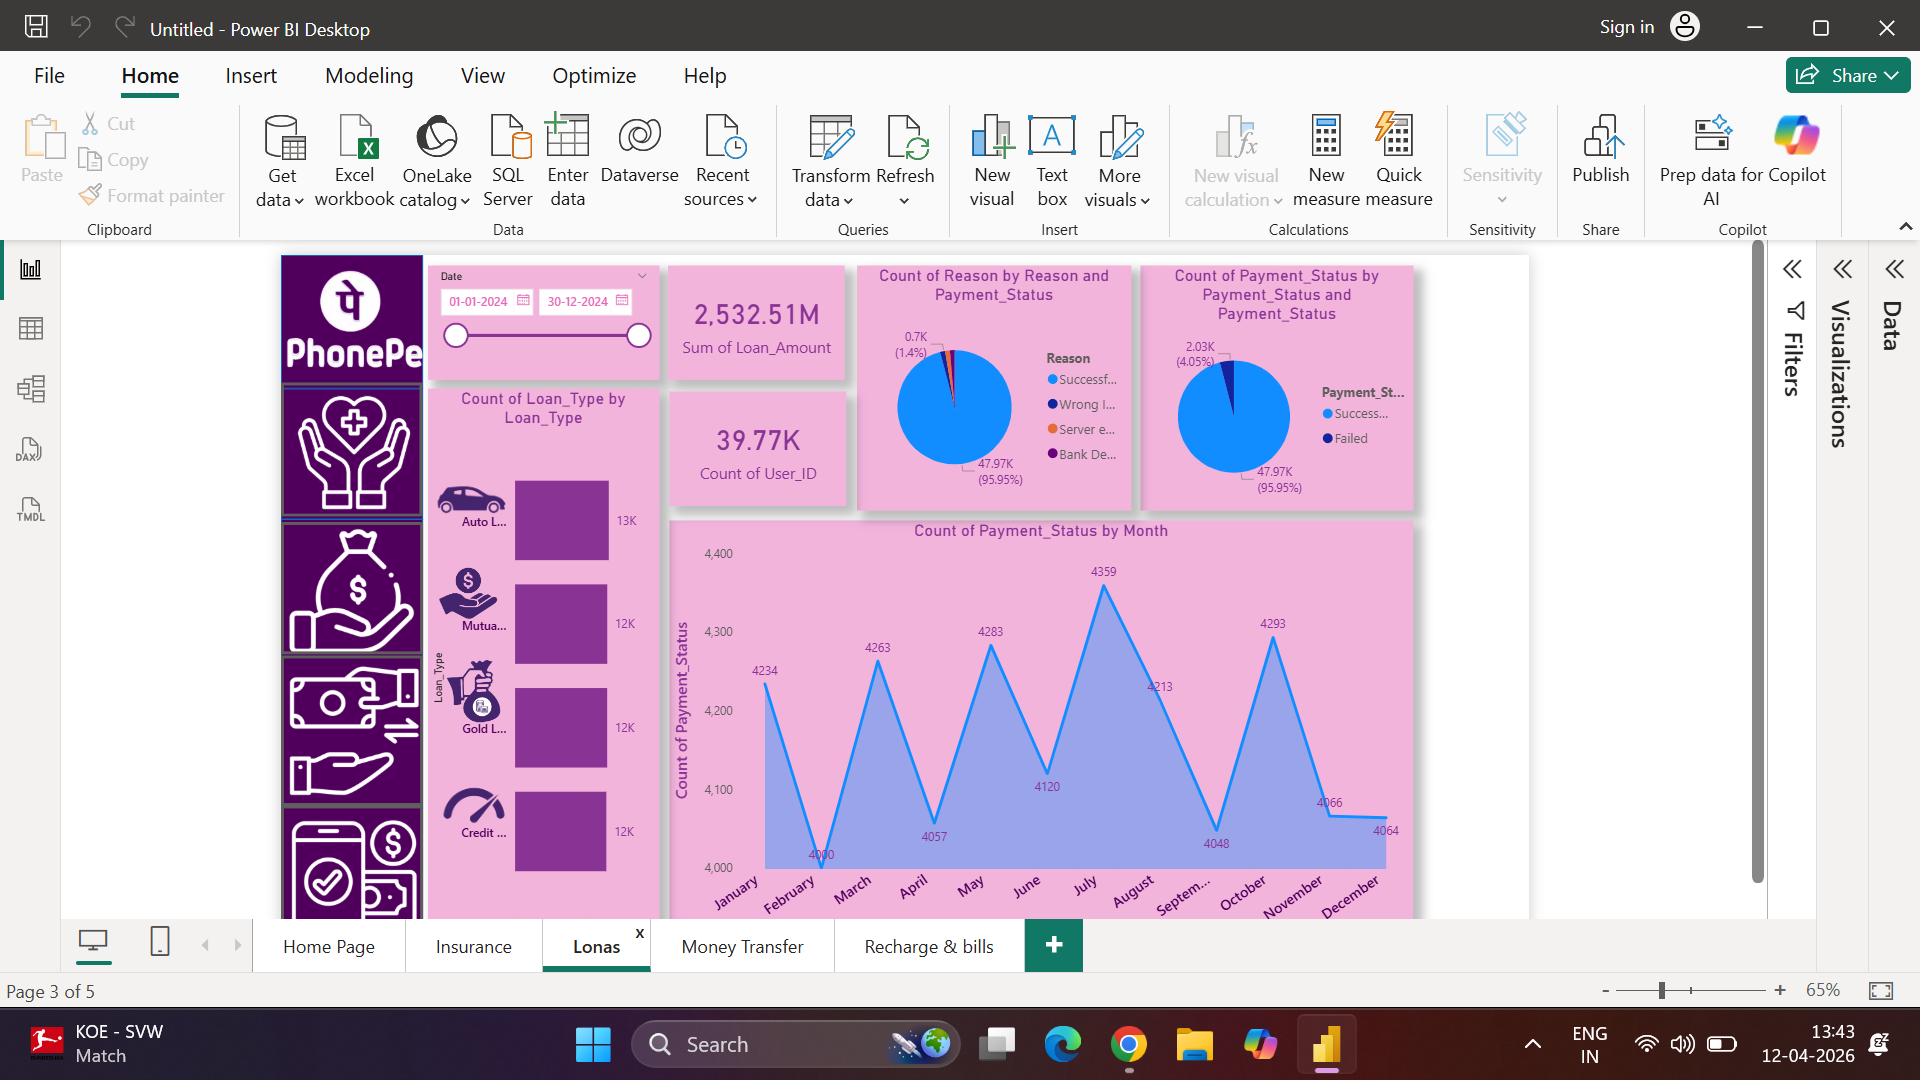

The page's visual inventory and layout, read from the dashboard file:
{"tool":"powerbi","page":{"name":"Lonas","canvas":[1280,720],"ordinal":2},"visuals":[{"type":"shape","box":[0,0,145.7,137.1],"z":0},{"type":"shape","box":[0,137.1,145.7,134.3],"z":1000},{"type":"shape","box":[0,271.4,145.7,141.4],"z":2000},{"type":"shape","box":[0,412.9,145.7,151.4],"z":3000},{"type":"shape","box":[0,564.3,145.7,155.7],"z":4000},{"type":"image","box":[0,0,150,137.1],"z":5000},{"type":"image","box":[0,272.9,150,141.4],"z":6000},{"type":"image","box":[0,412.9,150,151.4],"z":7000},{"type":"image","box":[0,564.3,150,155.7],"z":8000},{"type":"slicer","fields":{"Values":["Loans.Date"]},"box":[150,10,237.1,117.1],"z":9000},{"type":"card","fields":{"Values":["Sum(Loans.Loan_Amount)"]},"box":[397.1,10,181.4,117.1],"z":10000},{"type":"pieChart","fields":{"Series":["Loans.Payment_Status"],"Category":["Loans.Payment_Status"],"Y":["CountNonNull(Loans.Payment_Status)"]},"box":[881.4,10,280,251.4],"z":11000},{"type":"lineChart","fields":{"Category":["Loans.Date.Variation.Date Hierarchy.Month"],"Y":["CountNonNull(Loans.Payment_Status)"]},"box":[398.6,272.9,762.9,447.1],"z":12000},{"type":"clusteredBarChart","fields":{"Category":["Loans.Loan_Type"],"Y":["CountNonNull(Loans.Loan_Type)"]},"box":[150,137.1,237.1,582.9],"z":13000},{"type":"actionButton","box":[0,130,145,137.5],"z":14000},{"type":"actionButton","box":[0,274.3,145.7,135.7],"z":15000},{"type":"actionButton","box":[0,410,145.7,154.3],"z":16000},{"type":"actionButton","box":[0,564.3,145.7,155.7],"z":17000},{"type":"image","box":[0,0,150,140],"z":18000},{"type":"pieChart","fields":{"Series":["Loans.Payment_Status"],"Category":["Loans.Reason"],"Y":["CountNonNull(Loans.Reason)"]},"box":[590,10,281.4,251.4],"z":19000},{"type":"card","fields":{"Values":["Count(Loans.User_ID)"]},"box":[398.6,140,181.4,117.1],"z":20000},{"type":"image","box":[0,134.3,150,137.1],"z":21000},{"type":"image","box":[154.3,410,87.1,72.9],"z":22000},{"type":"image","box":[162.9,530,70,67.1],"z":23000},{"type":"image","box":[150,307.1,82.9,78.6],"z":24000},{"type":"image","box":[150,222.9,91.4,54.3],"z":25000}]}

Visuals, with their boxes on the page's 1280x720 design canvas (x1, y1, x2, y2). These are canvas units, not pixel positions in the 1920x1080 screenshot, which may show the page scaled, cropped or inside an application window:
shape: [0, 0, 146, 137]
shape: [0, 137, 146, 271]
shape: [0, 271, 146, 413]
shape: [0, 413, 146, 564]
shape: [0, 564, 146, 720]
image: [0, 0, 150, 137]
image: [0, 273, 150, 414]
image: [0, 413, 150, 564]
image: [0, 564, 150, 720]
slicer - Loans.Date: [150, 10, 387, 127]
card - Sum(Loans.Loan_Amount): [397, 10, 578, 127]
pieChart - Loans.Payment_Status x Loans.Payment_Status: [881, 10, 1161, 261]
lineChart - Loans.Date.Variation.Date Hierarchy.Month x CountNonNull(Loans.Payment_Status): [399, 273, 1162, 720]
clusteredBarChart - Loans.Loan_Type x CountNonNull(Loans.Loan_Type): [150, 137, 387, 720]
actionButton: [0, 130, 145, 268]
actionButton: [0, 274, 146, 410]
actionButton: [0, 410, 146, 564]
actionButton: [0, 564, 146, 720]
image: [0, 0, 150, 140]
pieChart - Loans.Payment_Status x Loans.Reason: [590, 10, 871, 261]
card - Count(Loans.User_ID): [399, 140, 580, 257]
image: [0, 134, 150, 271]
image: [154, 410, 241, 483]
image: [163, 530, 233, 597]
image: [150, 307, 233, 386]
image: [150, 223, 241, 277]
